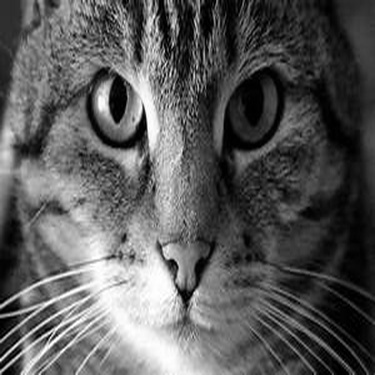cat: (13, 1, 358, 369)
